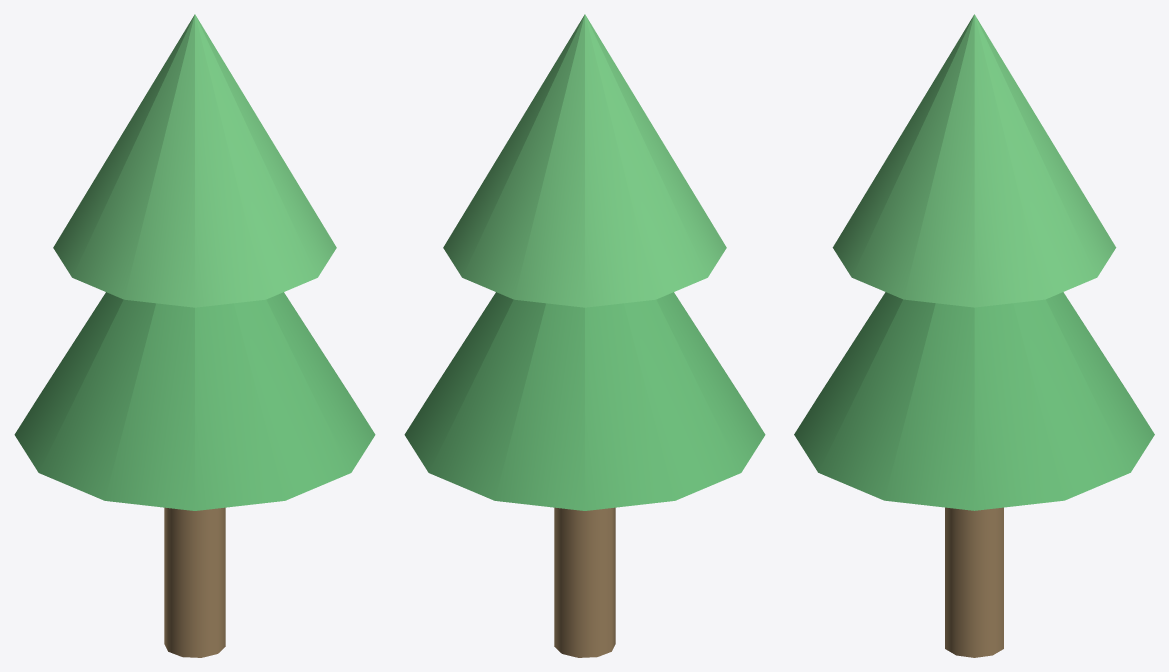
File: tree.glb
3 views of the same model, side by side, from view 1: azimuth 30°, elevation 25°; view 2: azimuth 150°, elevation 25°; view 3: azimuth 270°, elevation 25° (orthographic).
Size of the model in its own units: 1.4 by 2.7 by 1.4.
